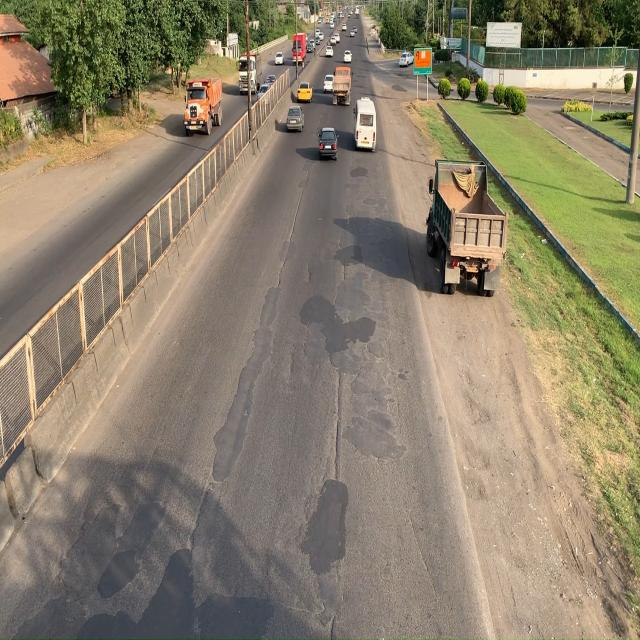Bus: (355, 95, 379, 155)
Truck: (424, 156, 508, 298), (184, 77, 223, 134)
cars: (317, 125, 339, 163), (281, 106, 303, 144), (294, 82, 313, 106)
